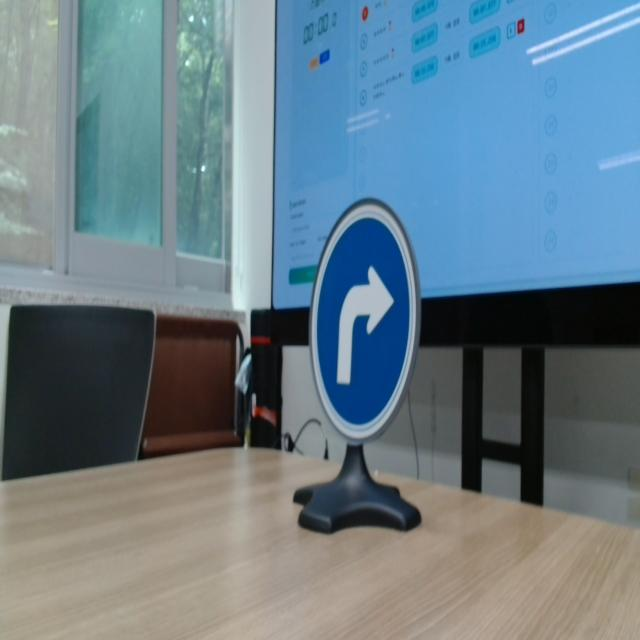right_dierection: (294, 199, 435, 444)
